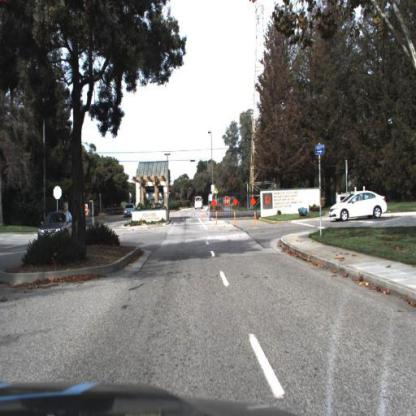car: (329, 189, 390, 225), (35, 210, 79, 252), (124, 205, 136, 221), (195, 194, 205, 210)
